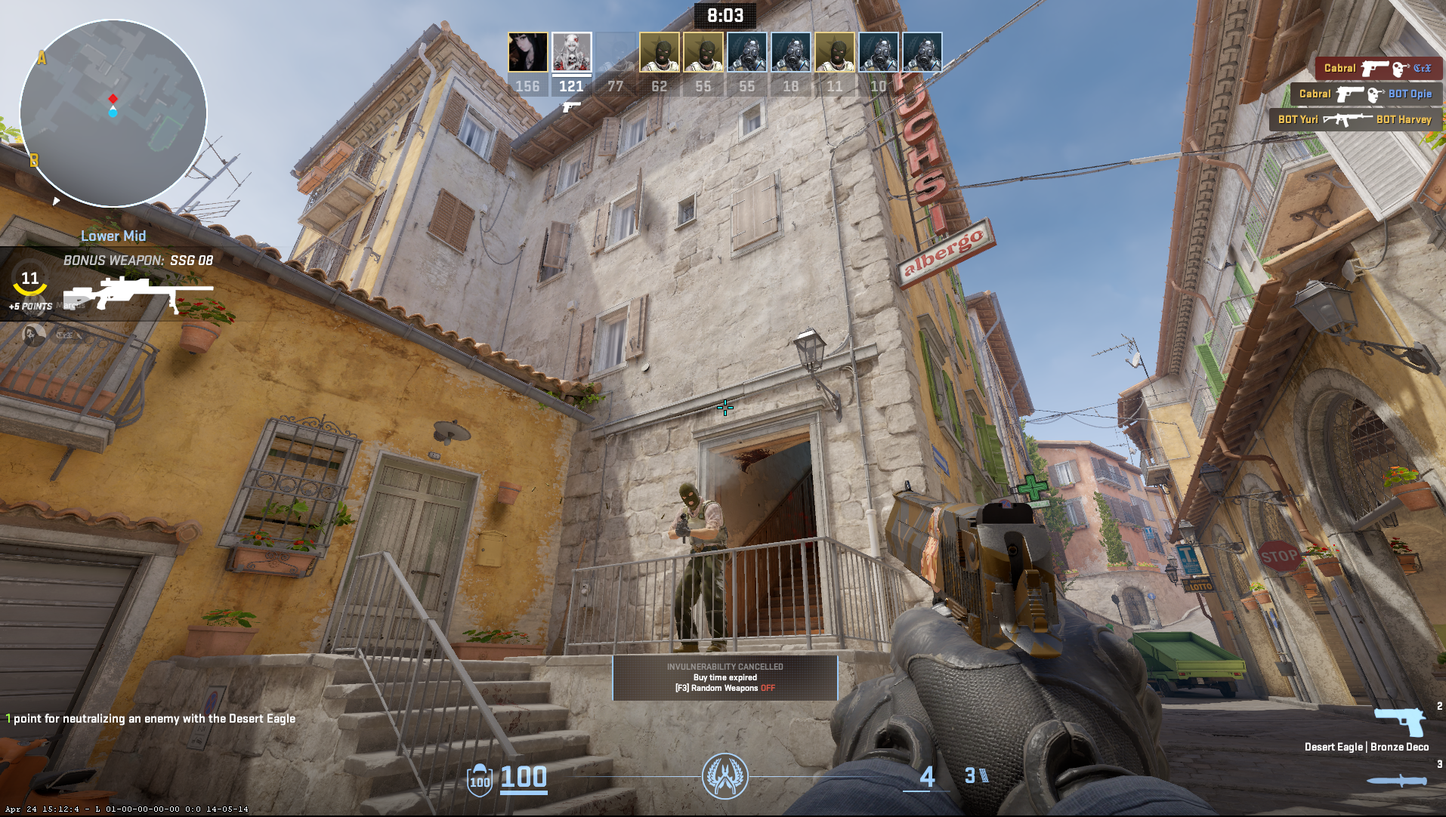T: (667, 482, 731, 653)
